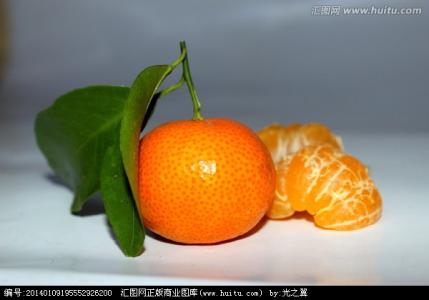orange: (120, 110, 278, 242)
